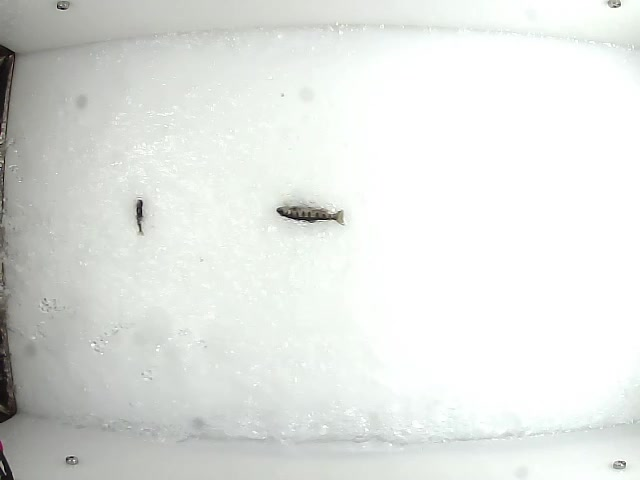fish: (273, 200, 347, 227), (132, 198, 147, 235)
